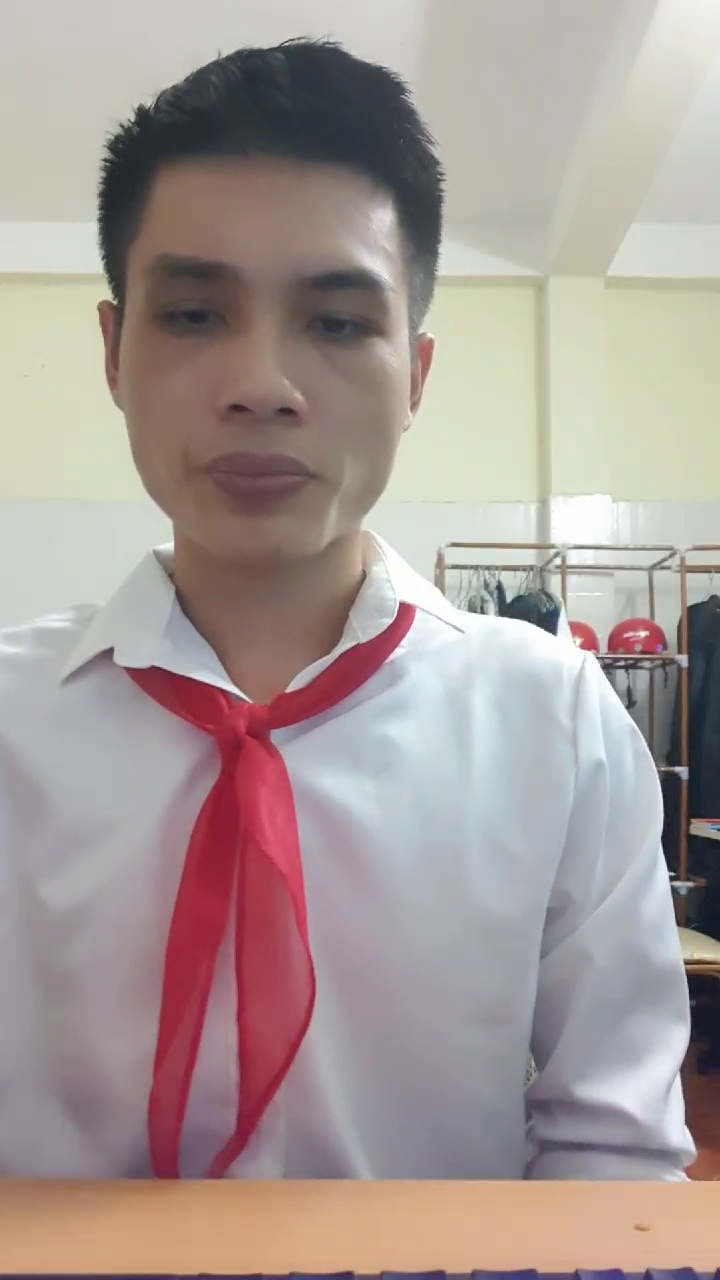redscarf: (136, 674, 325, 1102)
